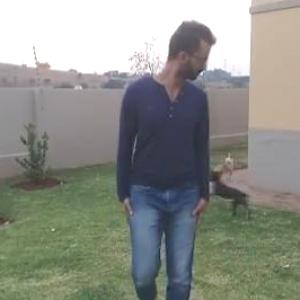follow: (121, 5, 218, 270)
